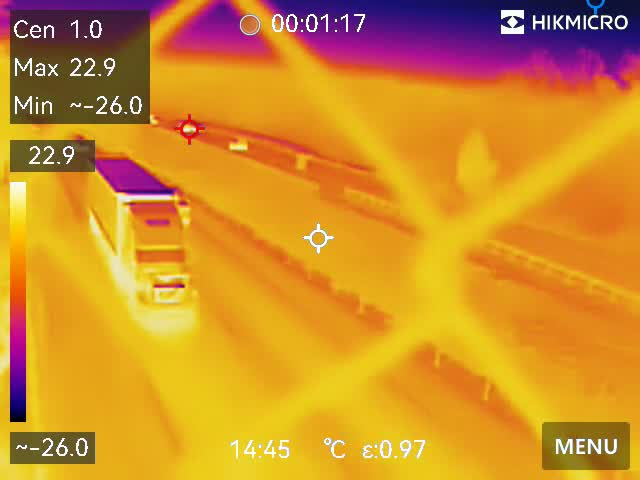heavyTruck: (78, 151, 193, 319)
vehicle: (227, 137, 251, 153), (178, 120, 200, 136)
